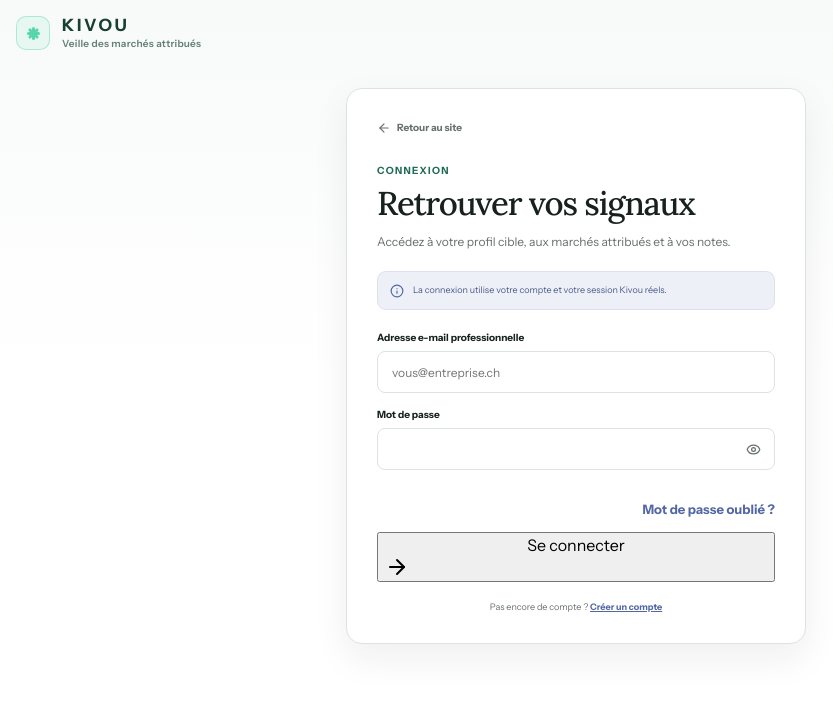
inscription › refuse un mot de passe vide sans appeler l’API
Type "claire@acme.test" into the field labelled "Adresse e-mail professionnelle" at point(576, 372), box [377,351,775,393]
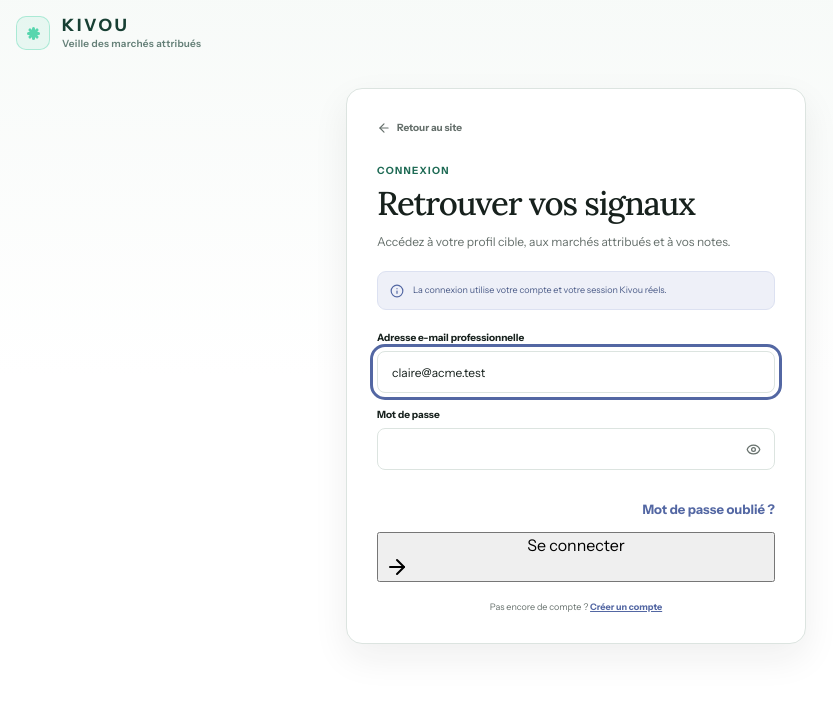
Click the button "Se connecter" at point(576, 557), box [377,532,775,582]
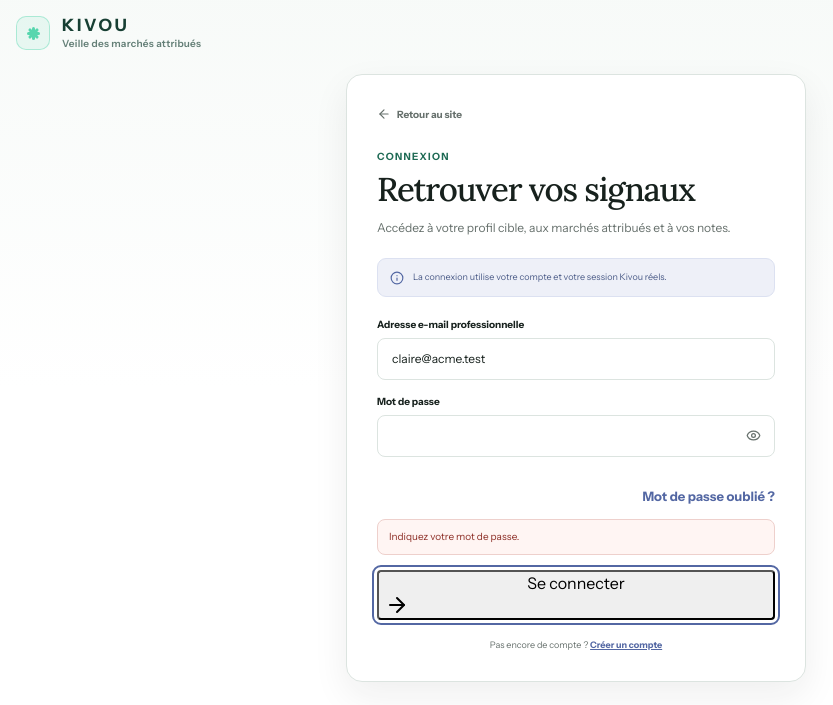
Check: the message shows "mot de passe", box [389,530,519,542]
